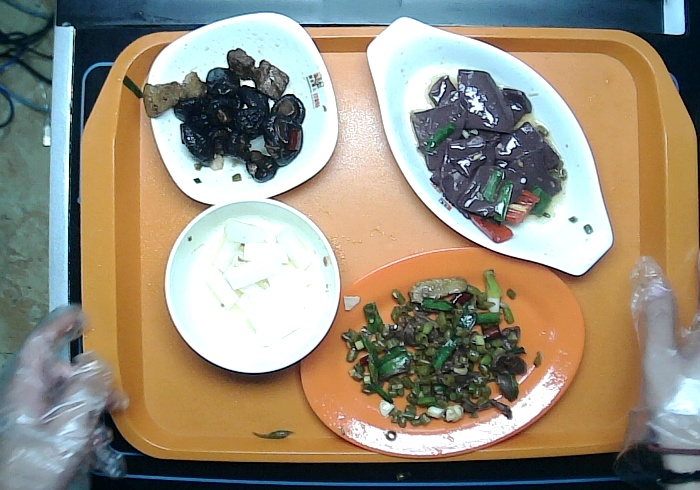NLDX-Bai_Se_Xiao_Fang_Die: (147, 12, 339, 204)
NLDX-Fan_Wan: (164, 197, 341, 374)
NLDX-Ju_Se_Pan: (299, 248, 584, 458)
NLDX-Yu_Pan: (366, 16, 614, 275)
